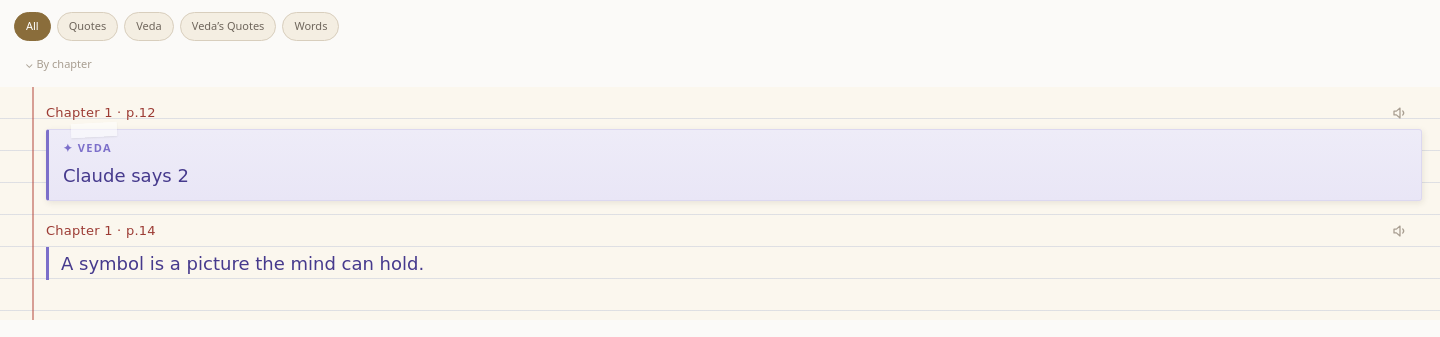
Test case: Veda quotes › keeps kept lines off the Veda chip, and conversations off theirs
What coordinates should you click on to do the following:
click the radio button labelled "Veda"
I would click on:
 (149, 26)
Its box is [124, 12, 174, 40].
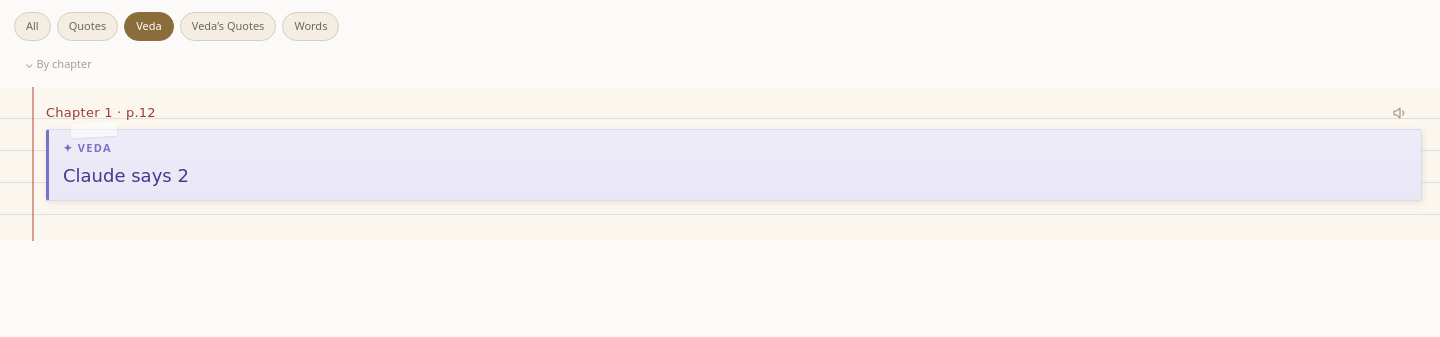
expect the text "Claude says 2" is shown: met, box [63, 164, 189, 186]
expect the button "A symbol is a picture" is gone: met
What coordinates should you click on to do the following:
click the radio button labelled "Veda’s Quotes"
I would click on:
 (228, 26)
Its box is [180, 12, 276, 40].
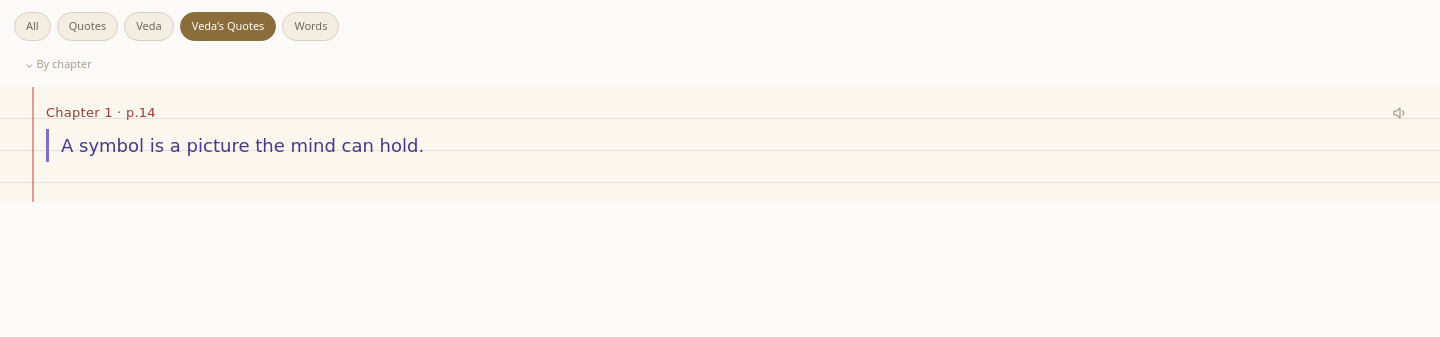
expect the text "A symbol is a picture the mind can hold." is shown: met, box [61, 135, 424, 156]
expect the button "Claude says 2" is gone: met
